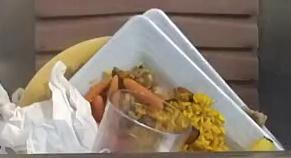carrots: (85, 76, 118, 123), (123, 78, 164, 111)
rice: (157, 88, 228, 151)
